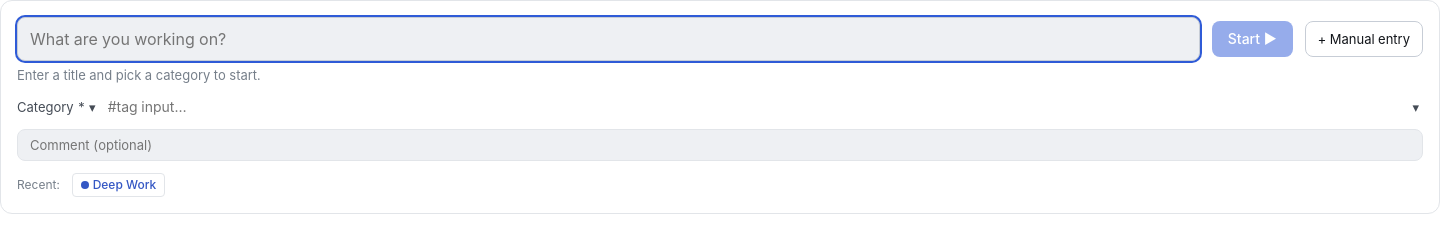
Test: TimerWidget › clears the tag chips and TagEditor's draft text after a successful Start
The image size is (1440, 231).
Type "Deep focus block" into the field with placeholder "What are you working on?" at (608, 39), box [17,17,1200,61]
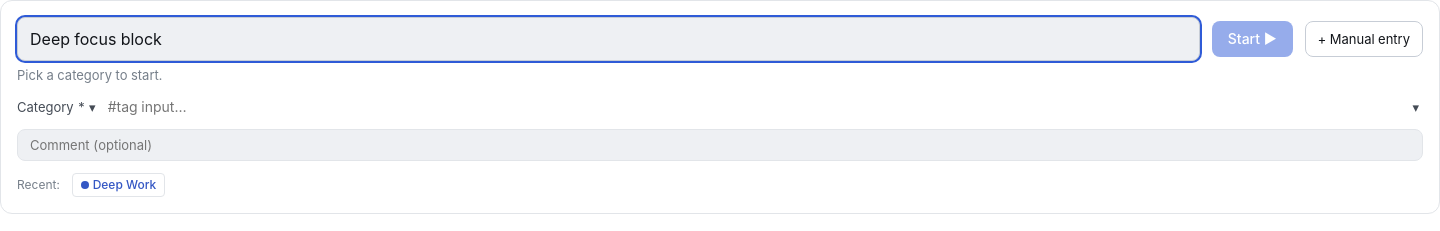
Click the button "Deep Work" at (118, 185), box [72,173,165,197]
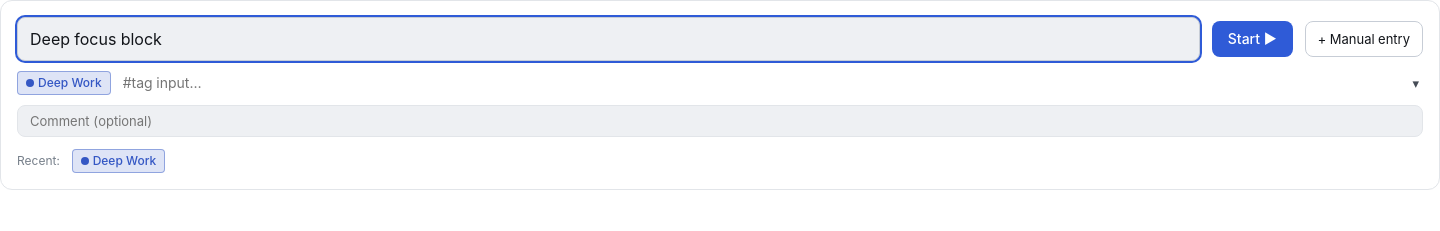
Type "bug" into the dropdown named "Add tag" at (764, 83), box [123,69,1404,97]
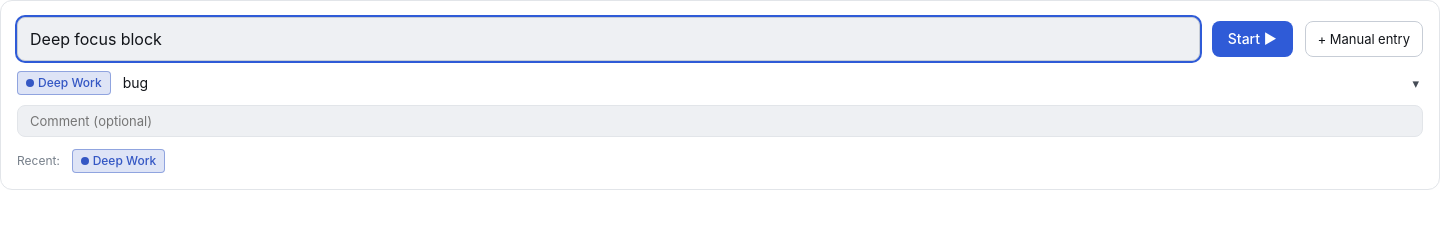
Press Enter in the dropdown named "Add tag", box [123,69,1404,97]
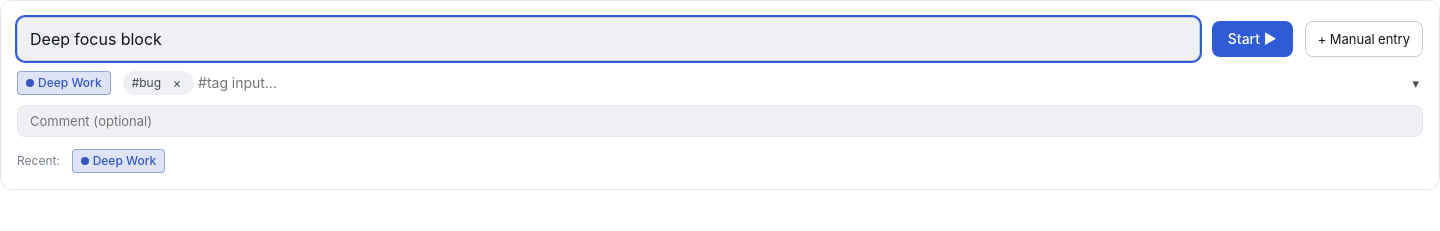
# Leave an uncommitted draft too.
Type "urg" into the dropdown named "Add tag" at (801, 83), box [198,69,1404,97]
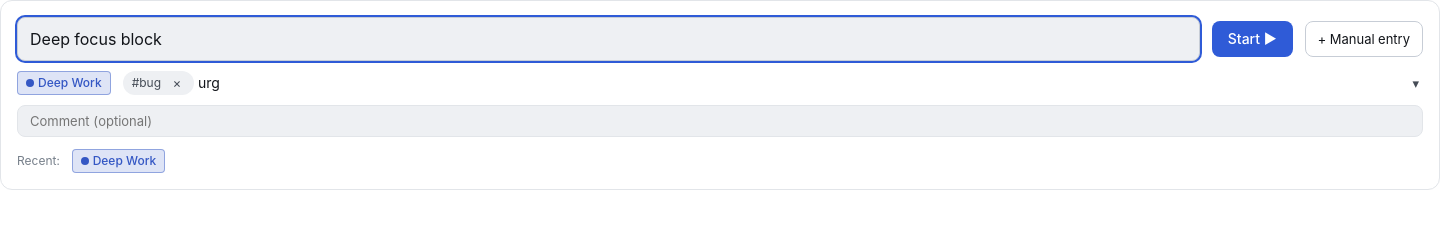
Click the button "Start ▶" at (1252, 39), box [1212,21,1293,57]
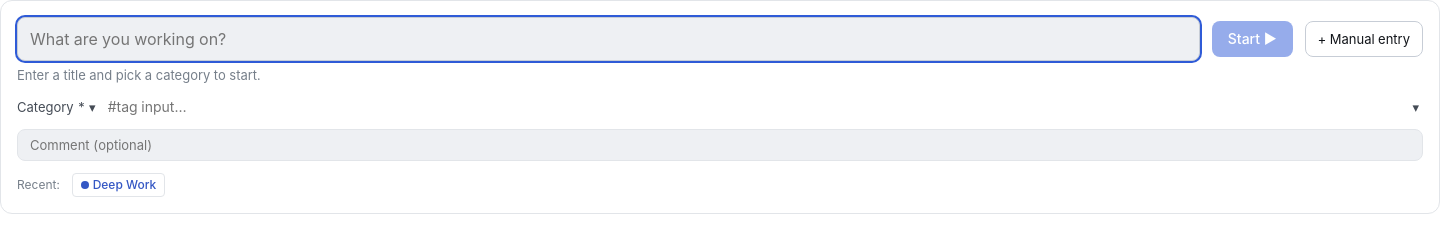
Check: the text "#bug" is gone
Check: the dropdown named "Add tag" is empty, box [108,93,1404,121]
